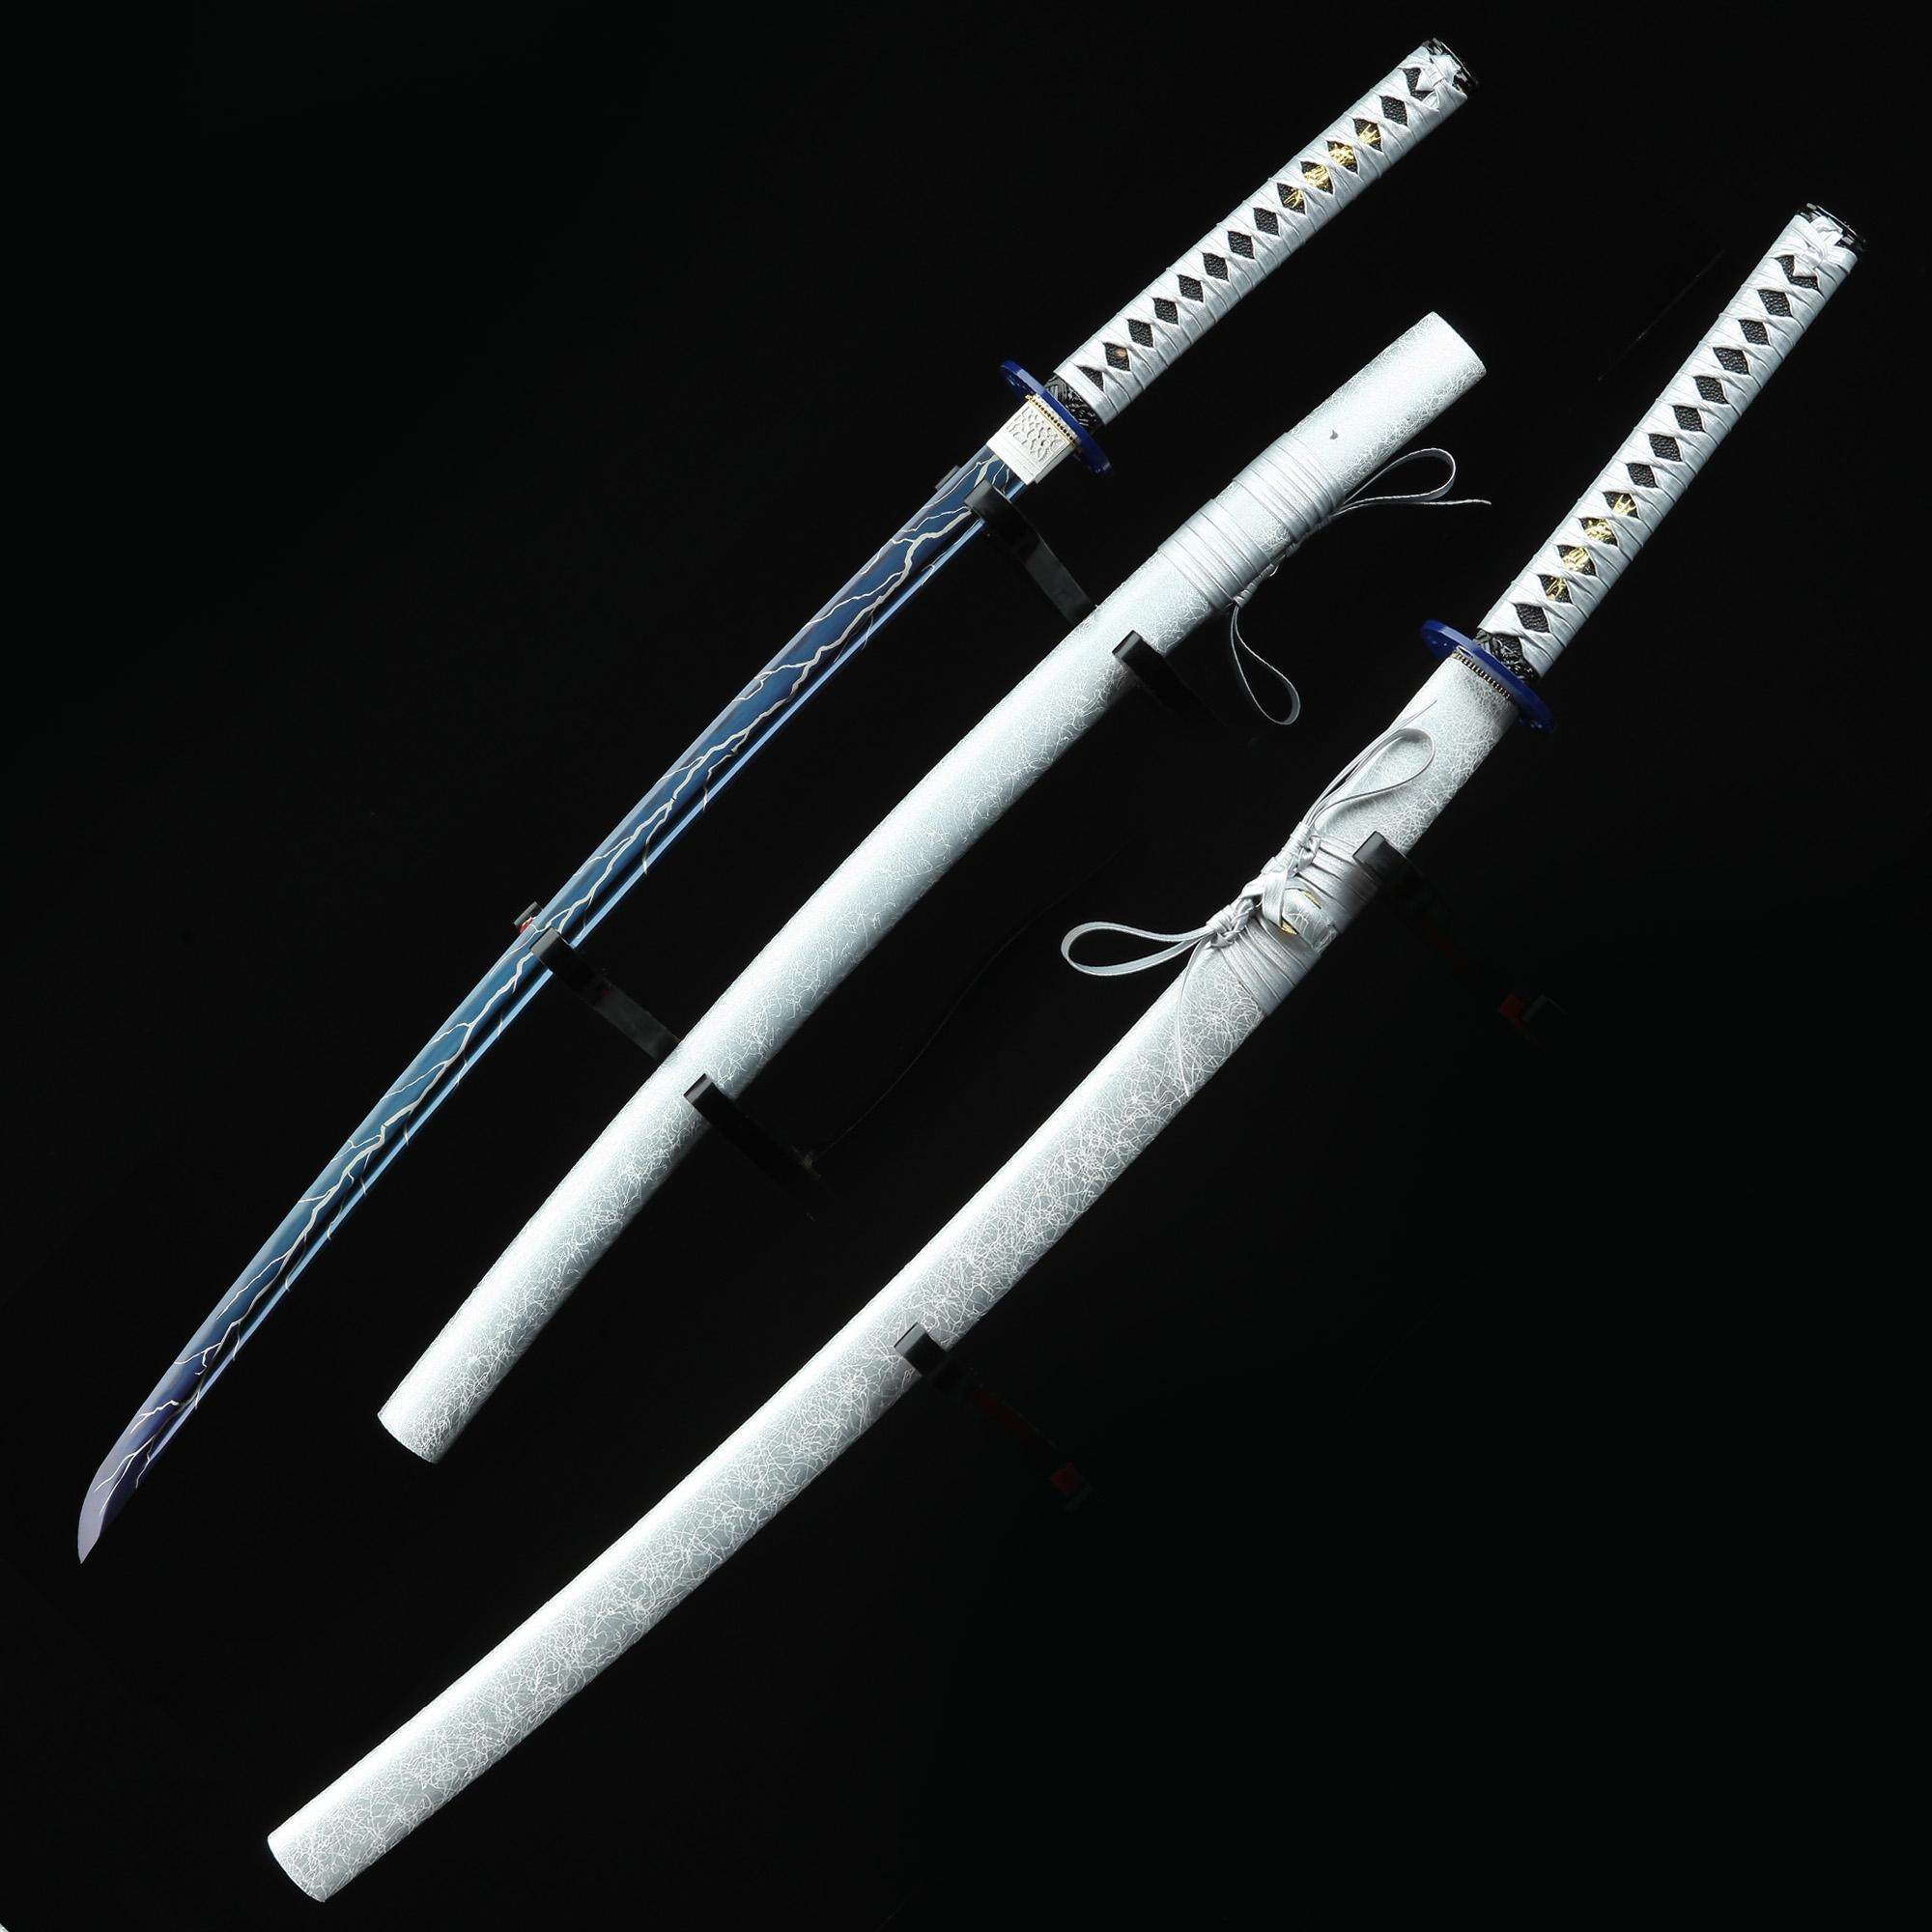espada: (203, 173, 1907, 1930), (0, 0, 1571, 1656)
